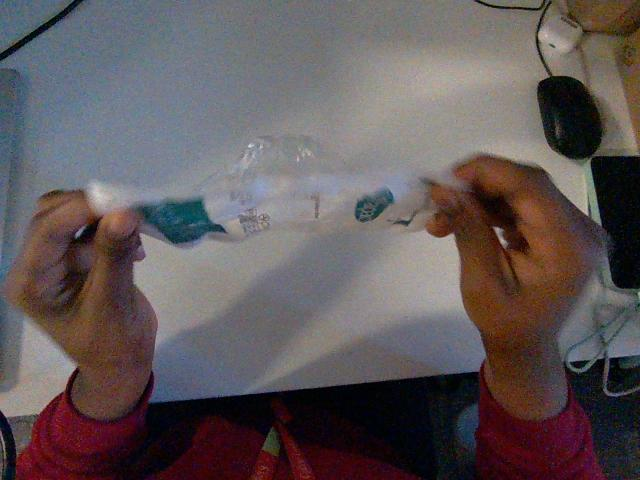gallipot: (86, 136, 431, 245)
